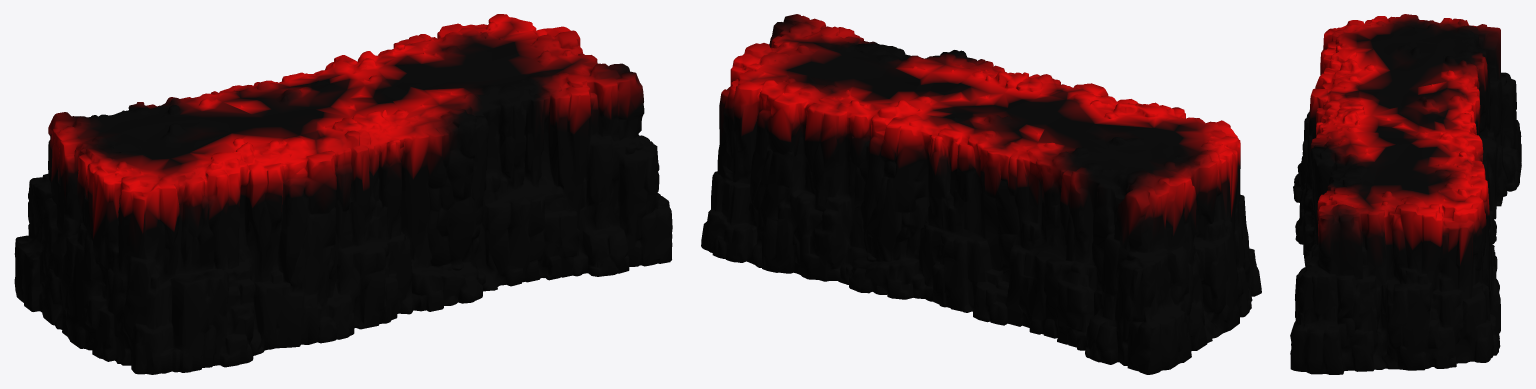
The model's file is OuterBank_01.fbx.
The picture shows the model from 3 angles, left to right: view 1: azimuth 30°, elevation 25°; view 2: azimuth 150°, elevation 25°; view 3: azimuth 270°, elevation 25°; orthographic projection. The views are drawn at different scales.
Parts seen in each view (by area): view 1: OuterBank_01_Work; view 2: OuterBank_01_Work; view 3: OuterBank_01_Work.
Part boxes in pixels (x1,y1,x2,y2): OuterBank_01_Work: [14, 14, 672, 374]; OuterBank_01_Work: [701, 14, 1261, 374]; OuterBank_01_Work: [1290, 14, 1521, 374].
Bounding box in the file's own units: 11000 × 3600 × 4895.
